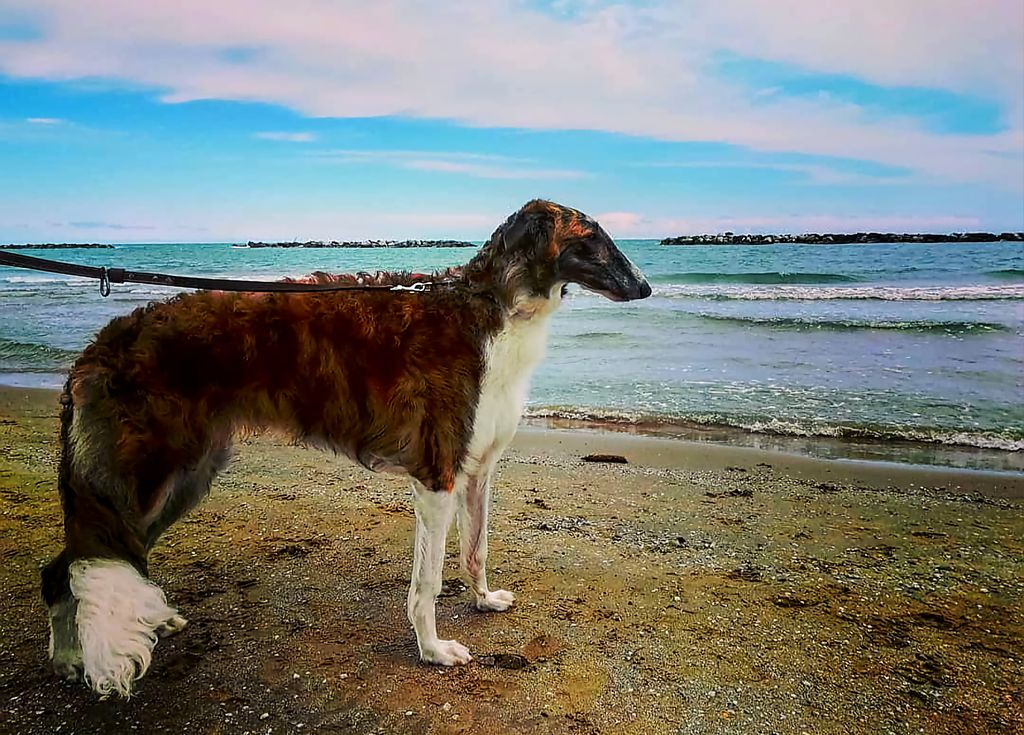borzoi: (25, 185, 687, 705)
